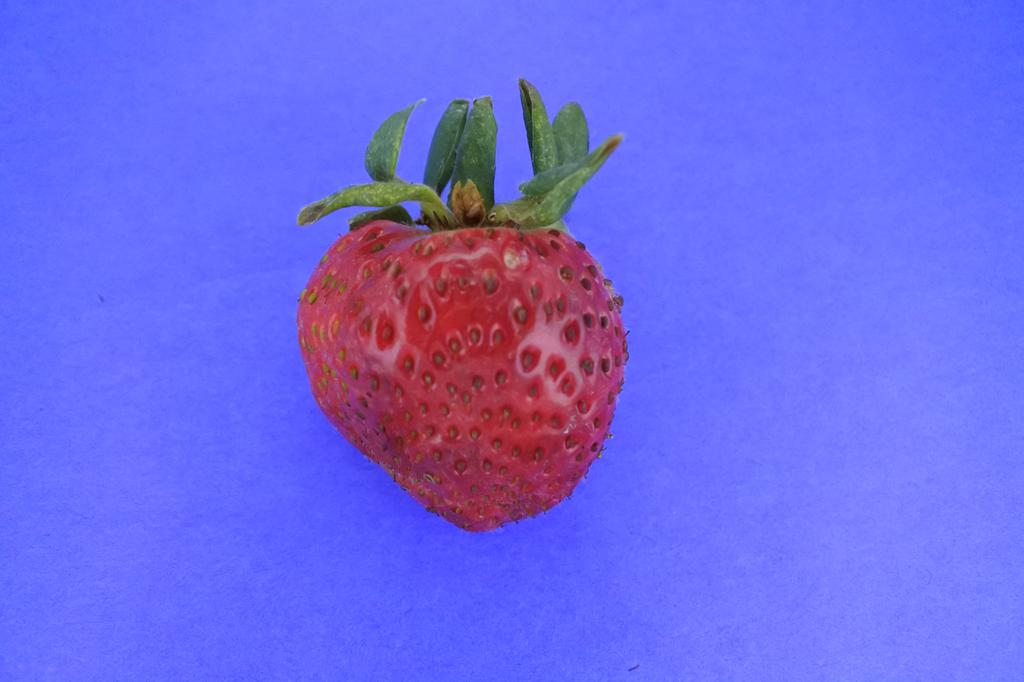red strawberry: (294, 81, 630, 534)
